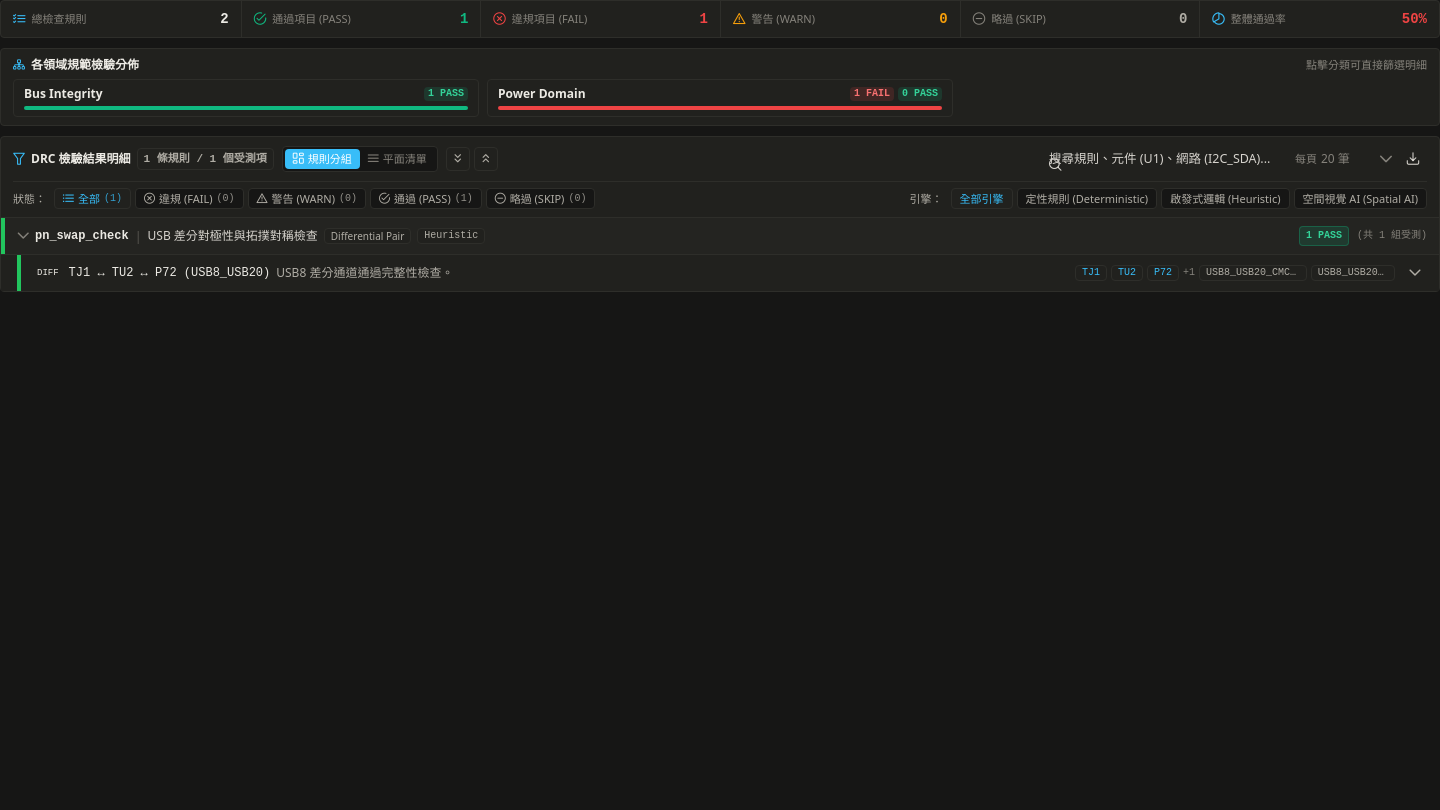
Test case: TaskReportDashboard.vue › 完整渲染差分通道端到端鏈路拓撲 (含起點連接器、途經 CMC、實體網路與終點晶片)
This screenshot has width=1440, height=810.
Click the button with class "expand-btn" at {"x": 1415, "y": 273}, box [1403,261,1427,285]
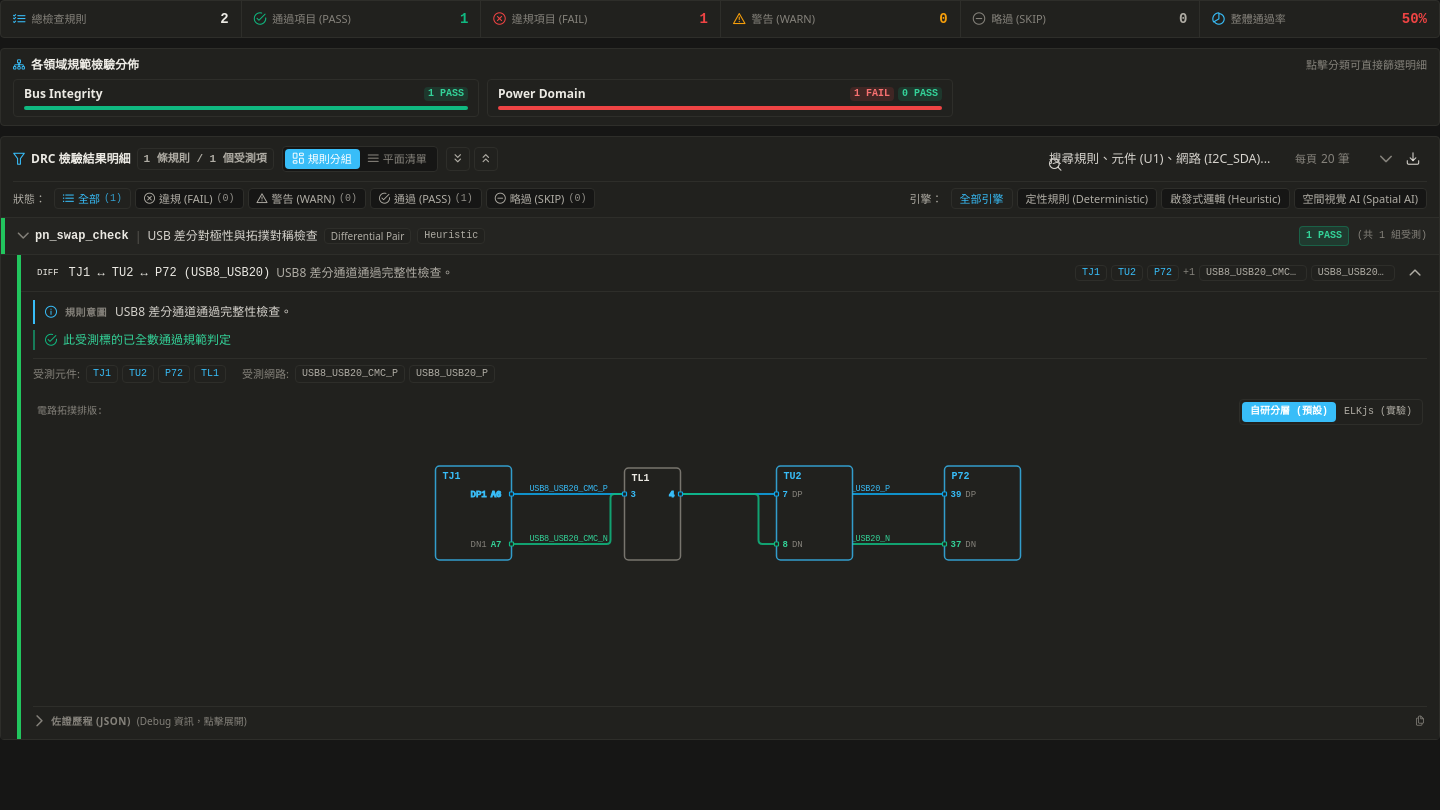
Click the element with class "cursor-pointer" showing "佐證歷程 (JSON) (Debug 資訊，點擊展開)" at {"x": 91, "y": 721}, box [33,711,1427,731]
(page scrolled)
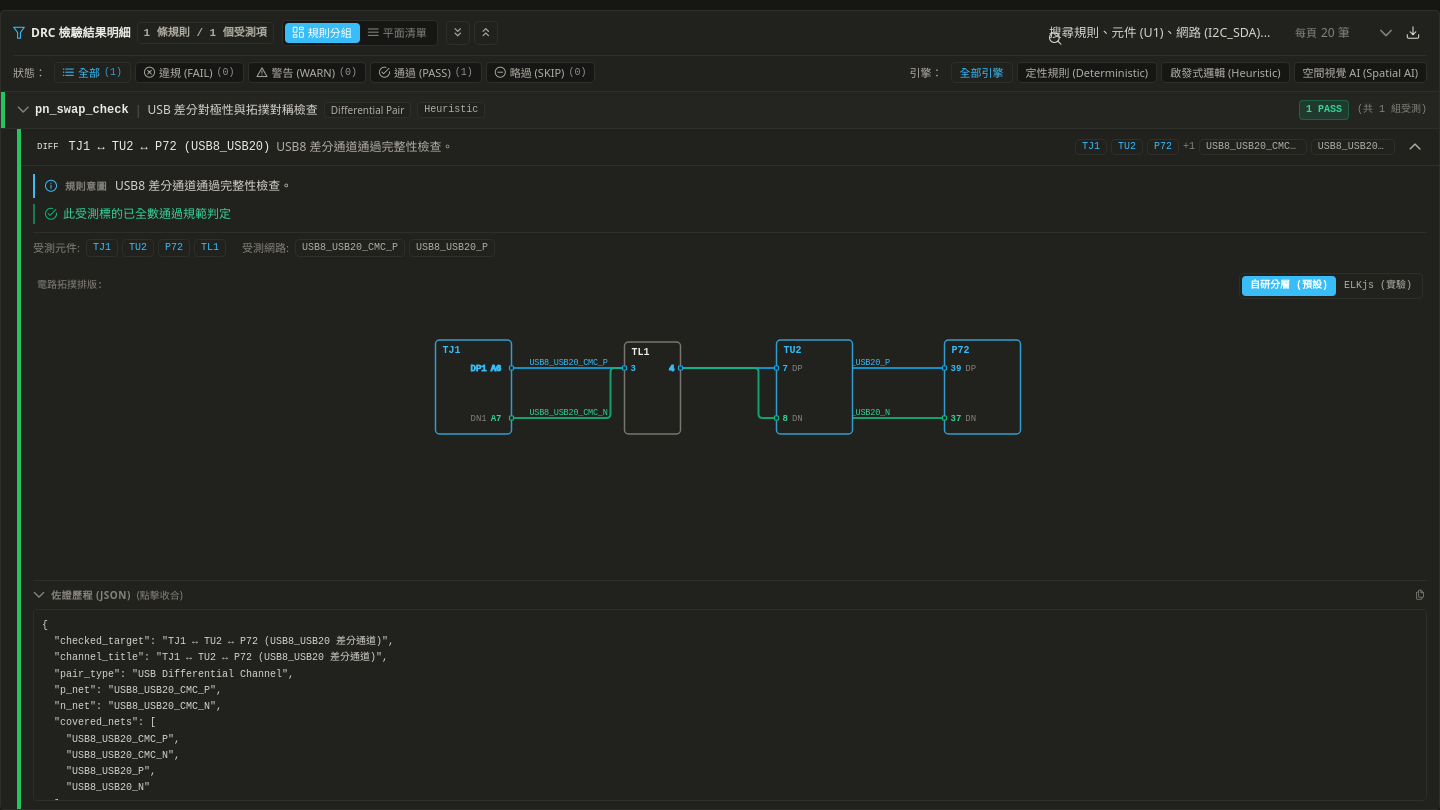
Now the text "A6" is shown, box [491,364,502,374]
Now the text "DP1" is shown, box [470,364,487,374]
Now the text with class "json-code" is shown, box [33,609,1427,801]
